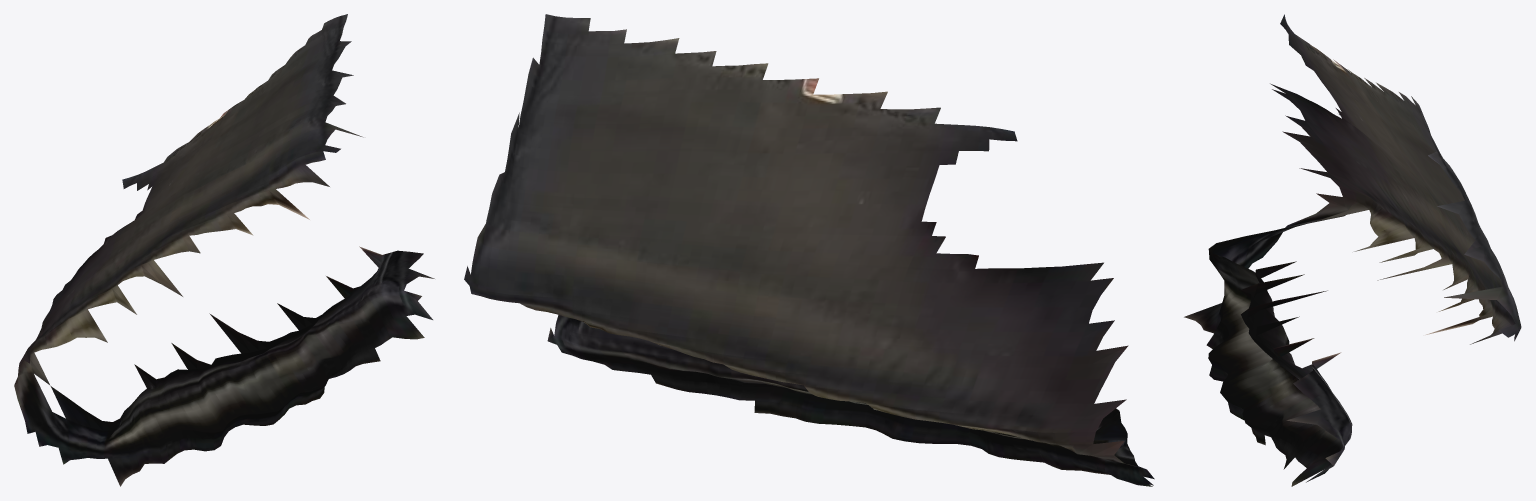
Rendered from observed-surface.glb.
3 views of the same model, side by side, from view 1: azimuth 30°, elevation 25°; view 2: azimuth 150°, elevation 25°; view 3: azimuth 270°, elevation 25° (orthographic). The views are drawn at different scales.
Visible parts, largest first — view 1: geometry_0; view 2: geometry_0; view 3: geometry_0.
Boxes of the visible parts, x1=… form: geometry_0: x1=14, y1=14, x2=434, y2=486; geometry_0: x1=464, y1=14, x2=1154, y2=486; geometry_0: x1=1184, y1=14, x2=1521, y2=486.
Size of the model in its own units: 0.7473 by 0.5545 by 0.4253.
Materials: 1 (1 with a texture image).
